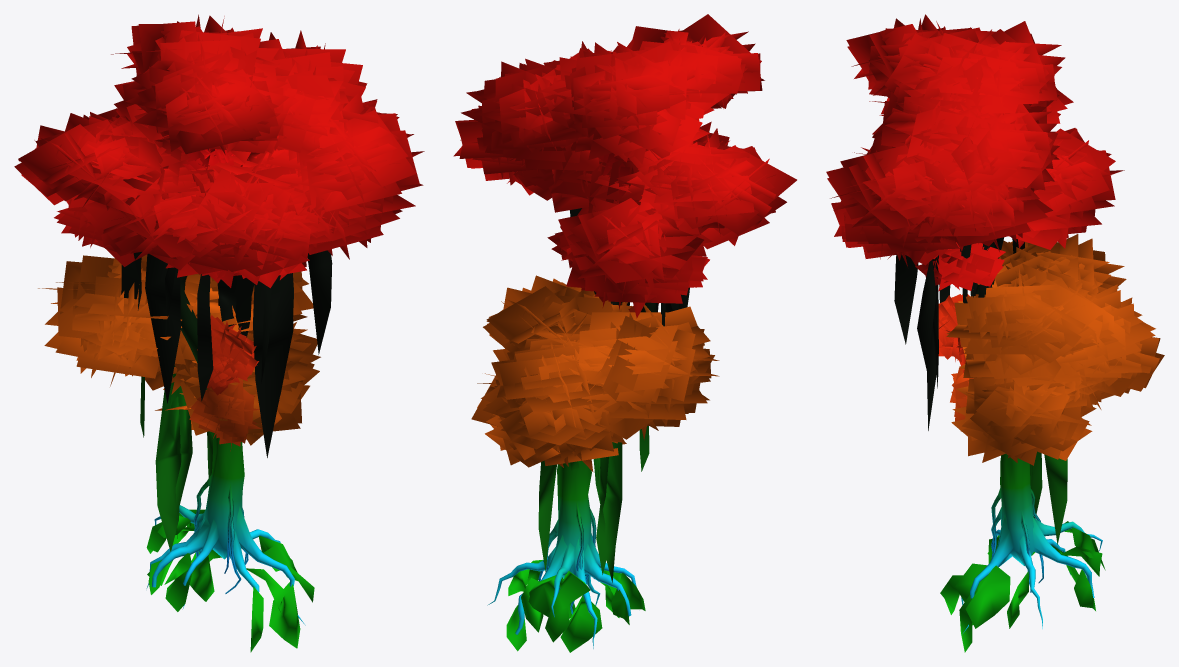
Rendered from Kapokier4.fbx.
3 views of the same model, side by side, from view 1: azimuth 30°, elevation 25°; view 2: azimuth 150°, elevation 25°; view 3: azimuth 270°, elevation 25° (orthographic). The views are drawn at different scales.
Visible parts, largest first — view 1: Kapokier4_LOD0; view 2: Kapokier4_LOD0; view 3: Kapokier4_LOD0.
Boxes of the visible parts, box(x1,y1,x2,y2) form: Kapokier4_LOD0: box(14, 14, 424, 652); Kapokier4_LOD0: box(453, 14, 796, 652); Kapokier4_LOD0: box(826, 14, 1164, 652).
Size of what is drawn, in the model's own units: 1516 by 2615 by 1394.
